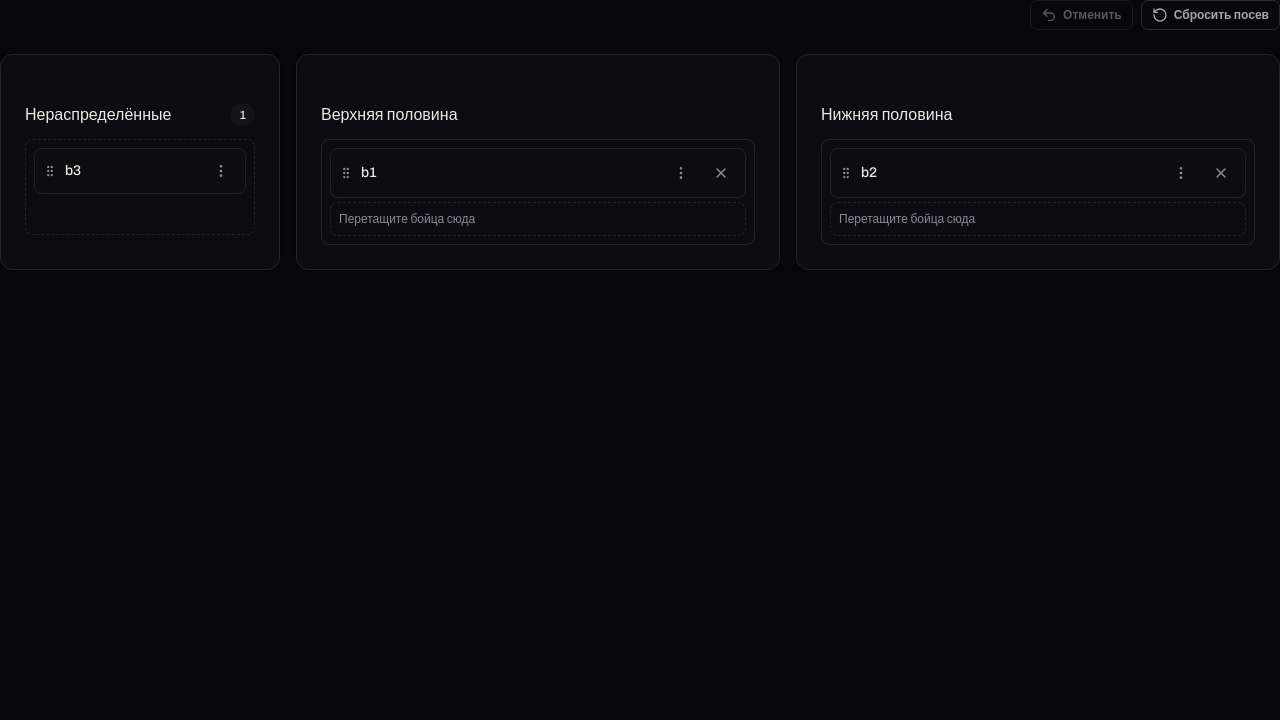
Test case: BracketSeeding › opens ConfirmDialog instead of window.confirm on reset click
What coordinates should you click on to do the following:
click the button "Сбросить посев"
I would click on:
 (1210, 15)
Its box is [1141,0,1279,30].
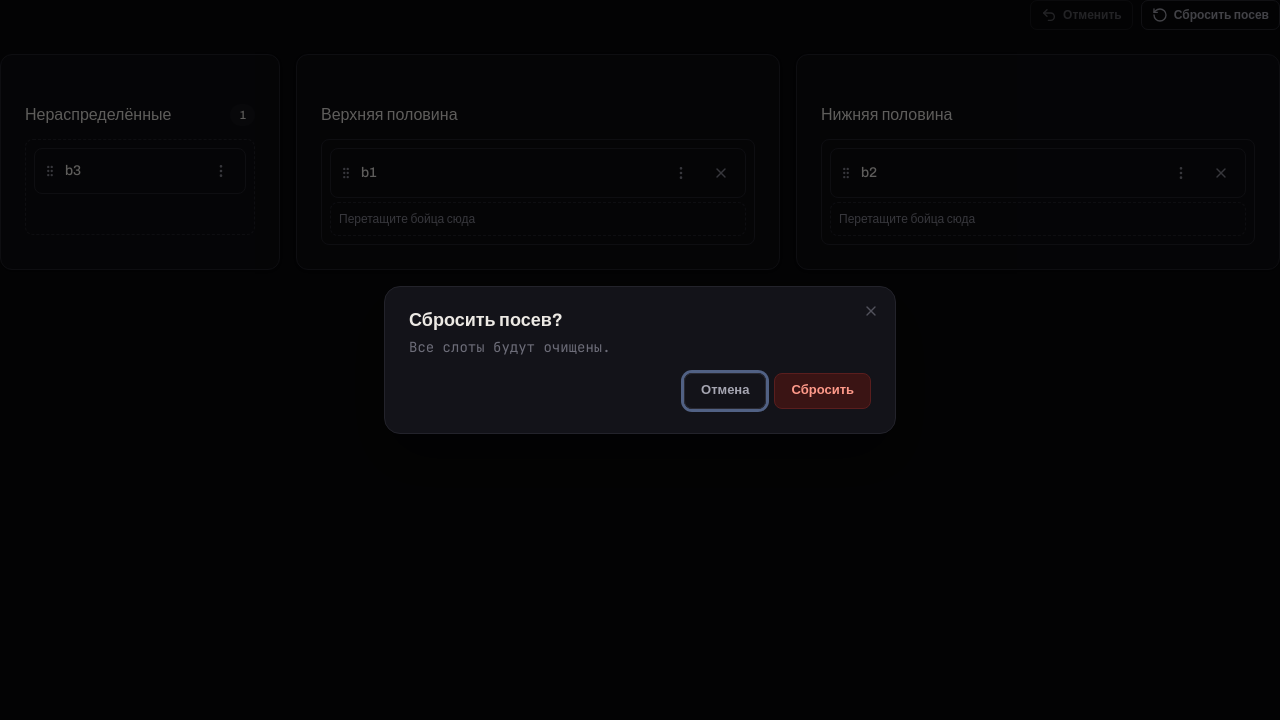
Result: the heading "Сбросить посев?" is shown at [409,310,563,330]
Result: the text "Все слоты будут очищены." is shown at [409,338,611,356]
